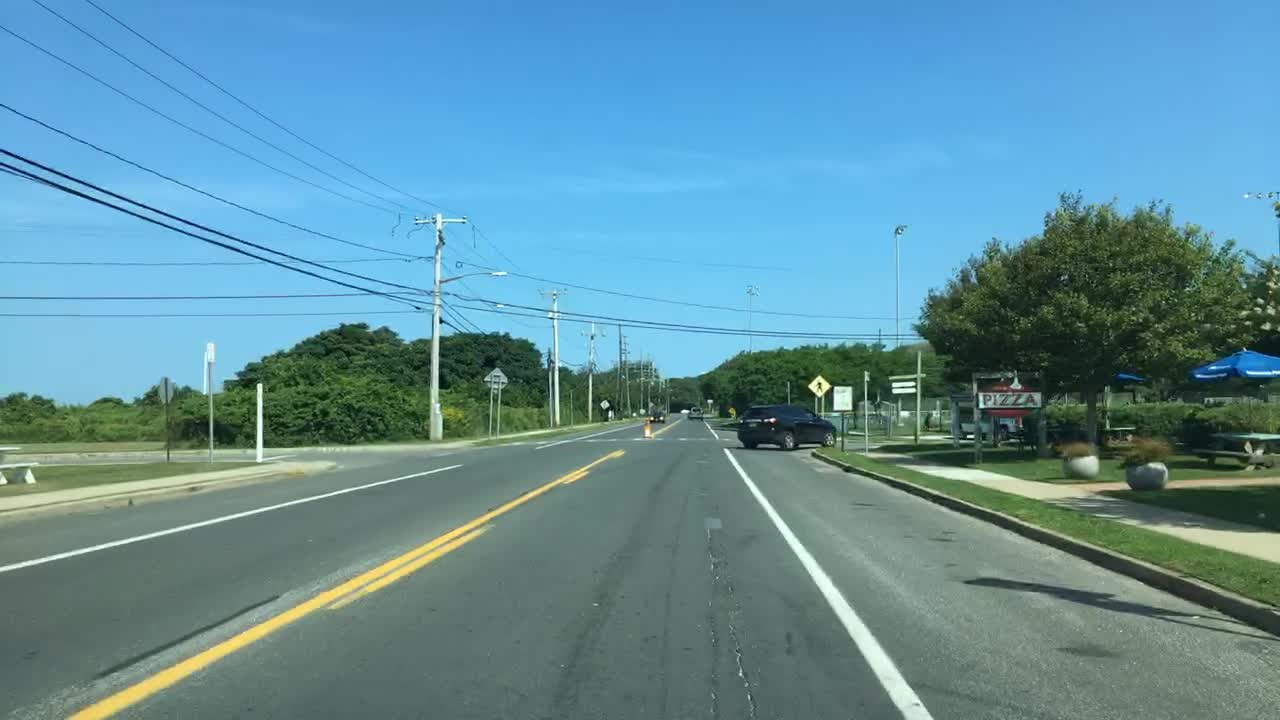car: (732, 401, 838, 450), (689, 402, 707, 419), (648, 407, 662, 423)
traffic sign: (829, 386, 854, 411), (483, 369, 506, 393), (809, 376, 832, 397), (598, 400, 611, 411)
truck: (955, 405, 1020, 441)
